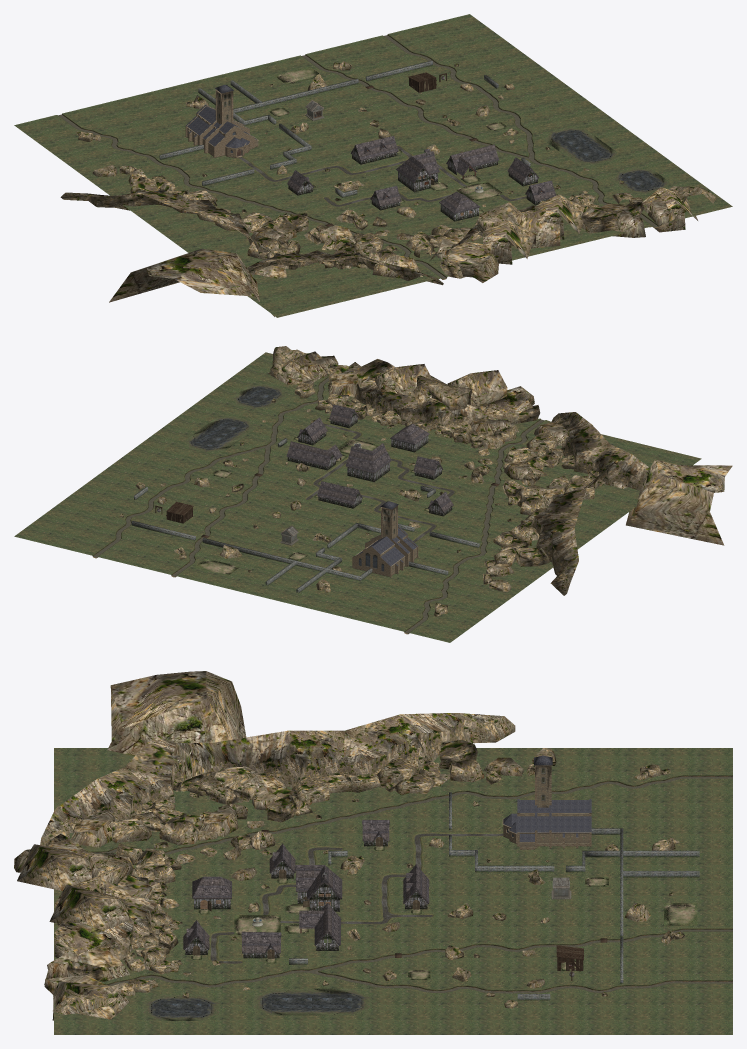
File: map.fbx
3 renders of one model, top to bottom at view 1: azimuth 30°, elevation 25°; view 2: azimuth 150°, elevation 25°; view 3: azimuth 270°, elevation 25°, orthographic. The views are drawn at different scales.
Visible parts, largest first — view 1: Teren, Skaly, TerenDetale, Katedra, Woda, Tawerna, Kuznia, Domek4, PepinDom, Domek5, Domek2, Domek1; view 2: Teren, Skaly, TerenDetale, Woda, Katedra, Tawerna, Kuznia, Domek4, PepinDom, Domek2, Domek1, Domek5; view 3: Teren, Skaly, TerenDetale, Katedra, Woda, Tawerna, Kuznia, PepinDom, Domek2, Domek4, Domek3, Domek5 (+2 smaller).
Part boxes in pixels (x1,y1,x2,y2): Teren: [14, 14, 732, 317]; Skaly: [60, 61, 716, 316]; TerenDetale: [267, 66, 668, 213]; Katedra: [185, 85, 258, 157]; Woda: [58, 35, 658, 279]; Tawerna: [396, 151, 439, 192]; Kuznia: [446, 144, 498, 179]; Domek4: [350, 136, 398, 164]; PepinDom: [439, 191, 480, 221]; Domek5: [370, 185, 401, 210]; Domek2: [507, 157, 539, 186]; Domek1: [525, 180, 556, 205]; Teren: [14, 352, 701, 642]; Skaly: [119, 346, 732, 616]; TerenDetale: [171, 384, 428, 575]; Woda: [93, 377, 544, 633]; Katedra: [352, 501, 418, 577]; Tawerna: [345, 443, 391, 481]; Kuznia: [286, 441, 342, 470]; Domek4: [317, 481, 362, 508]; PepinDom: [390, 424, 429, 452]; Domek2: [297, 417, 327, 445]; Domek1: [329, 404, 358, 427]; Domek5: [413, 456, 442, 479]; Teren: [54, 748, 732, 1034]; Skaly: [14, 671, 684, 1020]; TerenDetale: [141, 846, 697, 1020]; Katedra: [502, 755, 591, 849]; Woda: [94, 776, 732, 993]; Tawerna: [295, 865, 342, 911]; Kuznia: [299, 903, 340, 950]; PepinDom: [192, 876, 231, 909]; Domek2: [241, 931, 281, 958]; Domek4: [403, 864, 429, 909]; Domek3: [362, 819, 389, 846]; Domek5: [269, 843, 295, 878].
Size of the model in its own units: 182 by 23.72 by 159.
38 materials, 38 textured.
